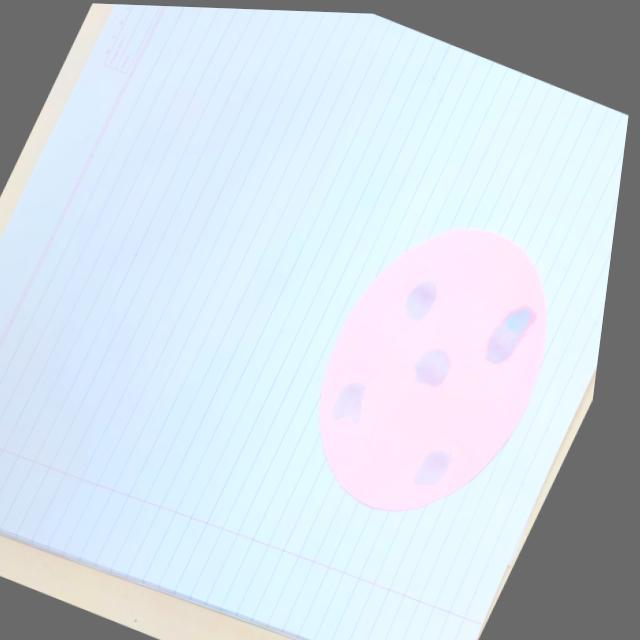BlueColor: (485, 305, 536, 363), (413, 449, 450, 486), (414, 349, 450, 387), (332, 381, 364, 423), (405, 280, 437, 320)
